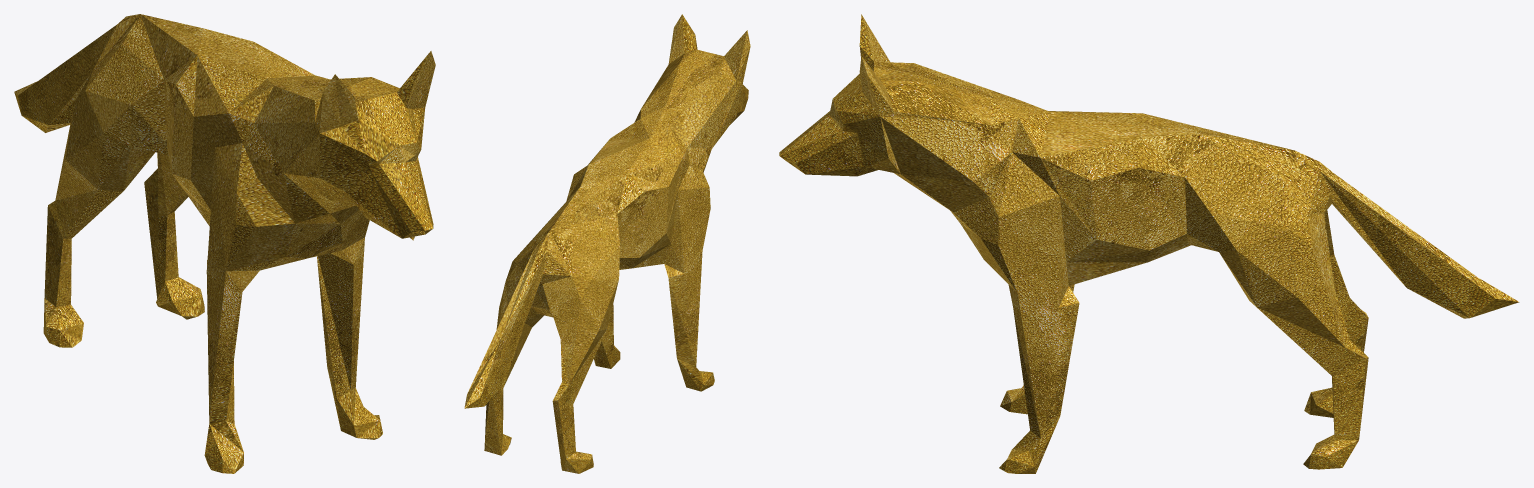
File: Figure dog.FBX
The picture shows the model from 3 angles, left to right: view 1: azimuth 30°, elevation 25°; view 2: azimuth 150°, elevation 25°; view 3: azimuth 270°, elevation 25°; orthographic projection. The views are drawn at different scales.
Parts seen in each view (by area): view 1: figure dog; view 2: figure dog; view 3: figure dog.
Part boxes in pixels (x1,y1,x2,y2): figure dog: (14, 14, 435, 473); figure dog: (464, 14, 750, 473); figure dog: (779, 14, 1519, 473).
Bounding box in the file's own units: 6.05 × 15.5 × 25.59.
1 material, 1 textured.
